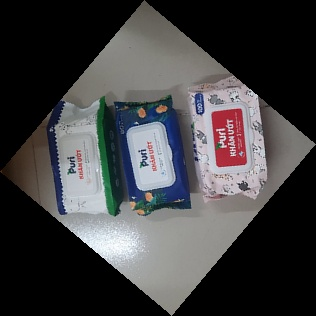Puri Trang: (45, 96, 126, 217)
Puri Xanh: (113, 92, 198, 215)
Puri hong: (183, 74, 272, 206)
